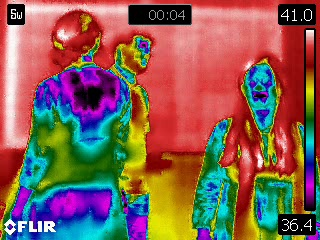human: (8, 12, 129, 240), (192, 60, 304, 240), (90, 30, 163, 240)
